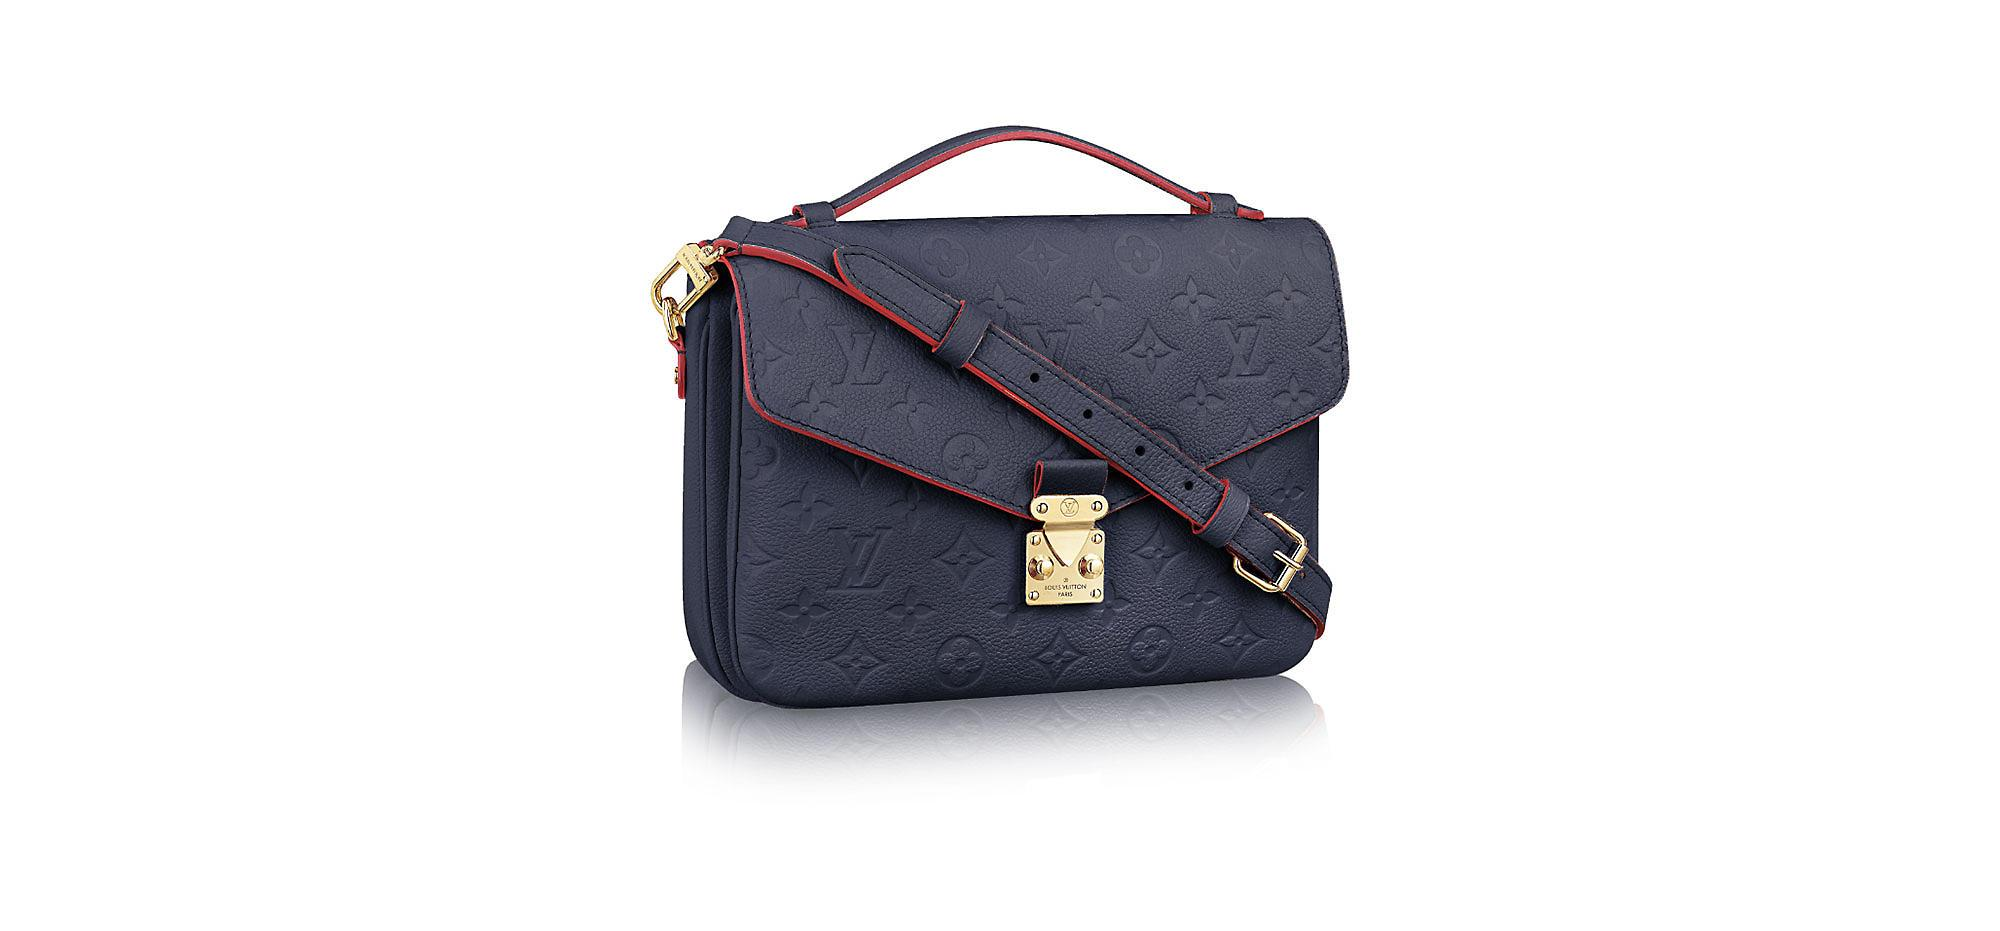LOUIS-VUITTON: (824, 523, 894, 592), (823, 321, 892, 389), (1214, 315, 1276, 381), (1019, 321, 1078, 370)
